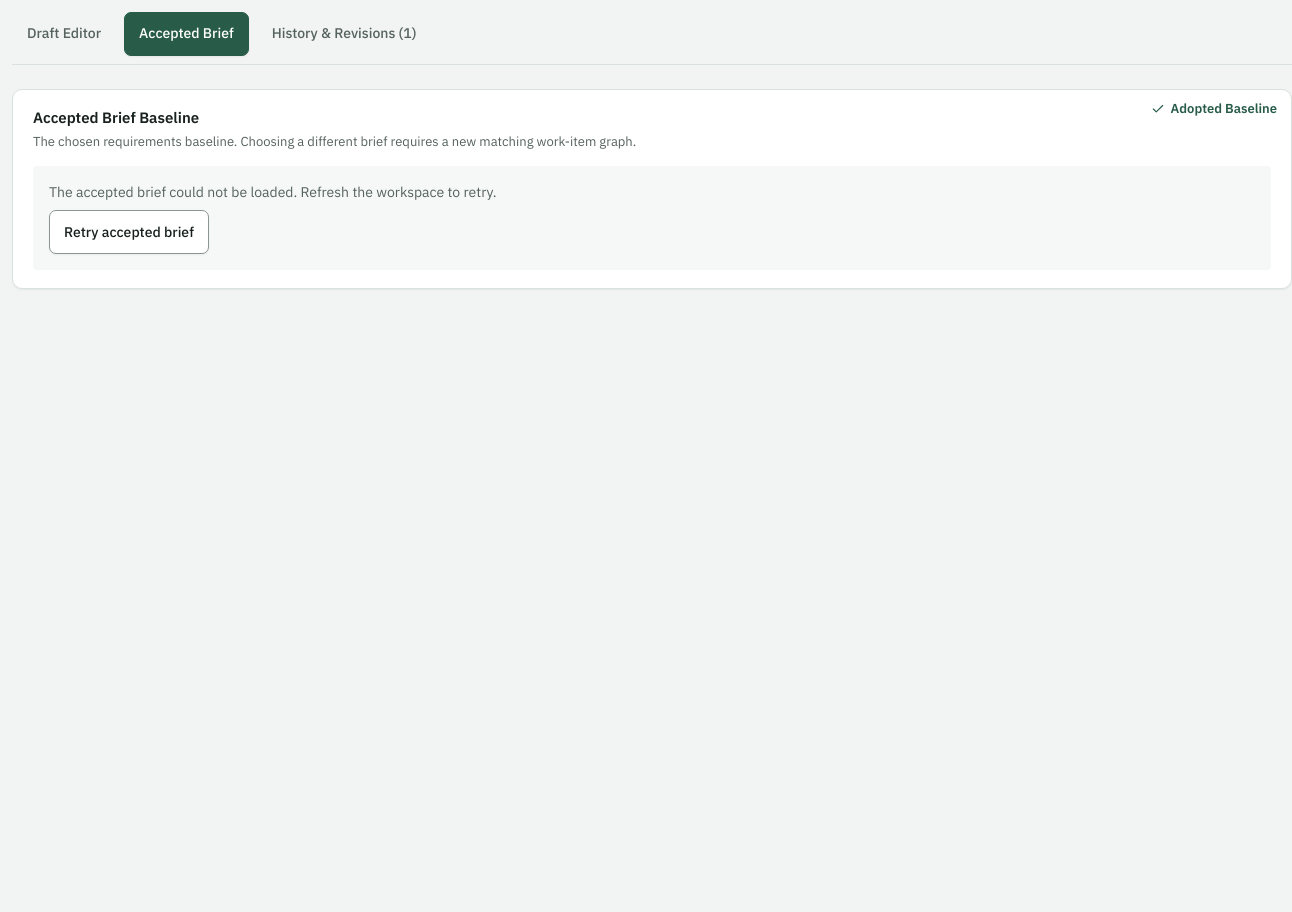
Test: BriefEditor › historical evidence exposes the saved content rather than the current draft
Click the button "History & Revisions (1)": (344,34) top-left (257, 12), bottom-right (432, 56)
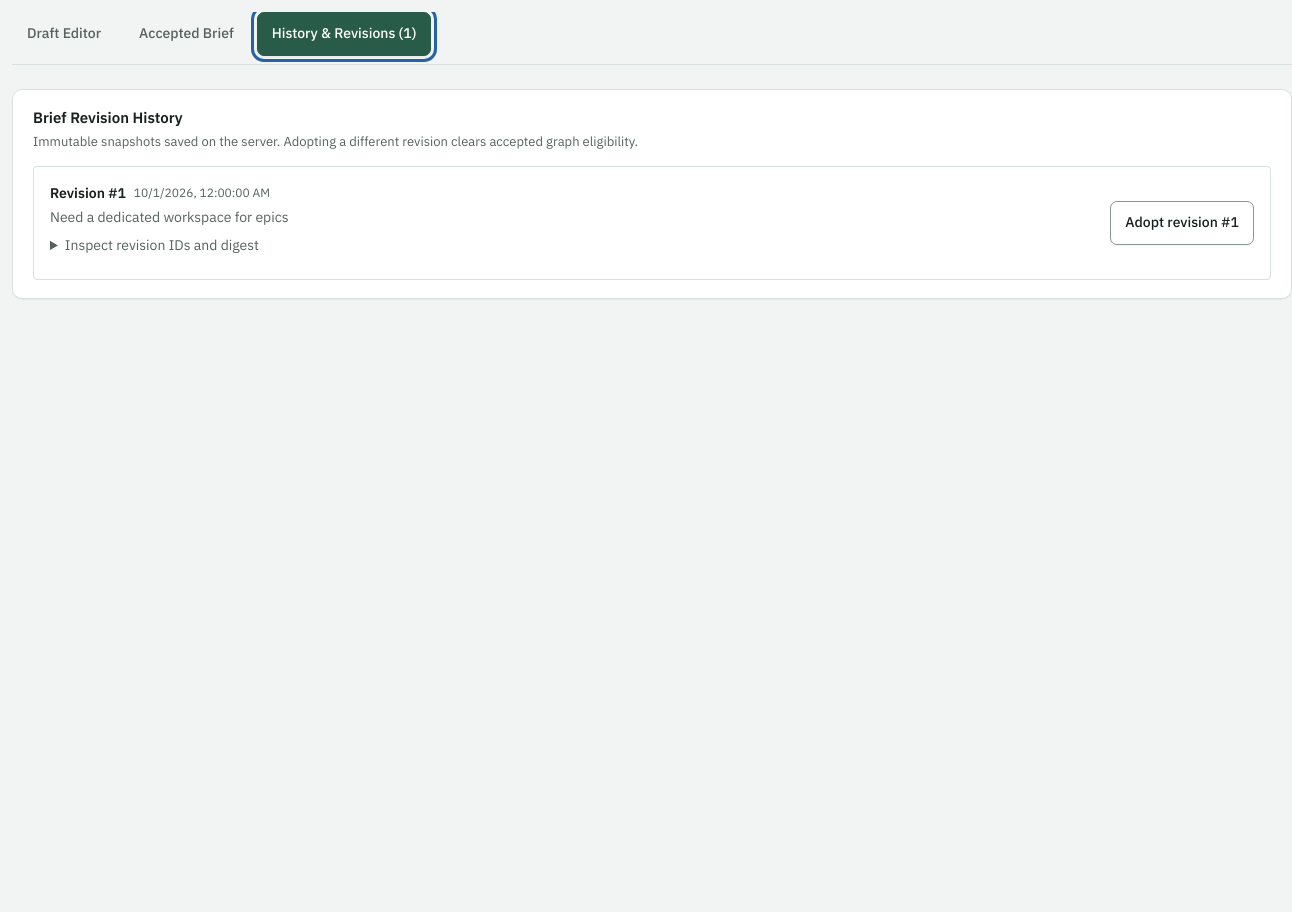
Click the heading "Inspect revision IDs and digest": (162,245) top-left (65, 236), bottom-right (259, 254)
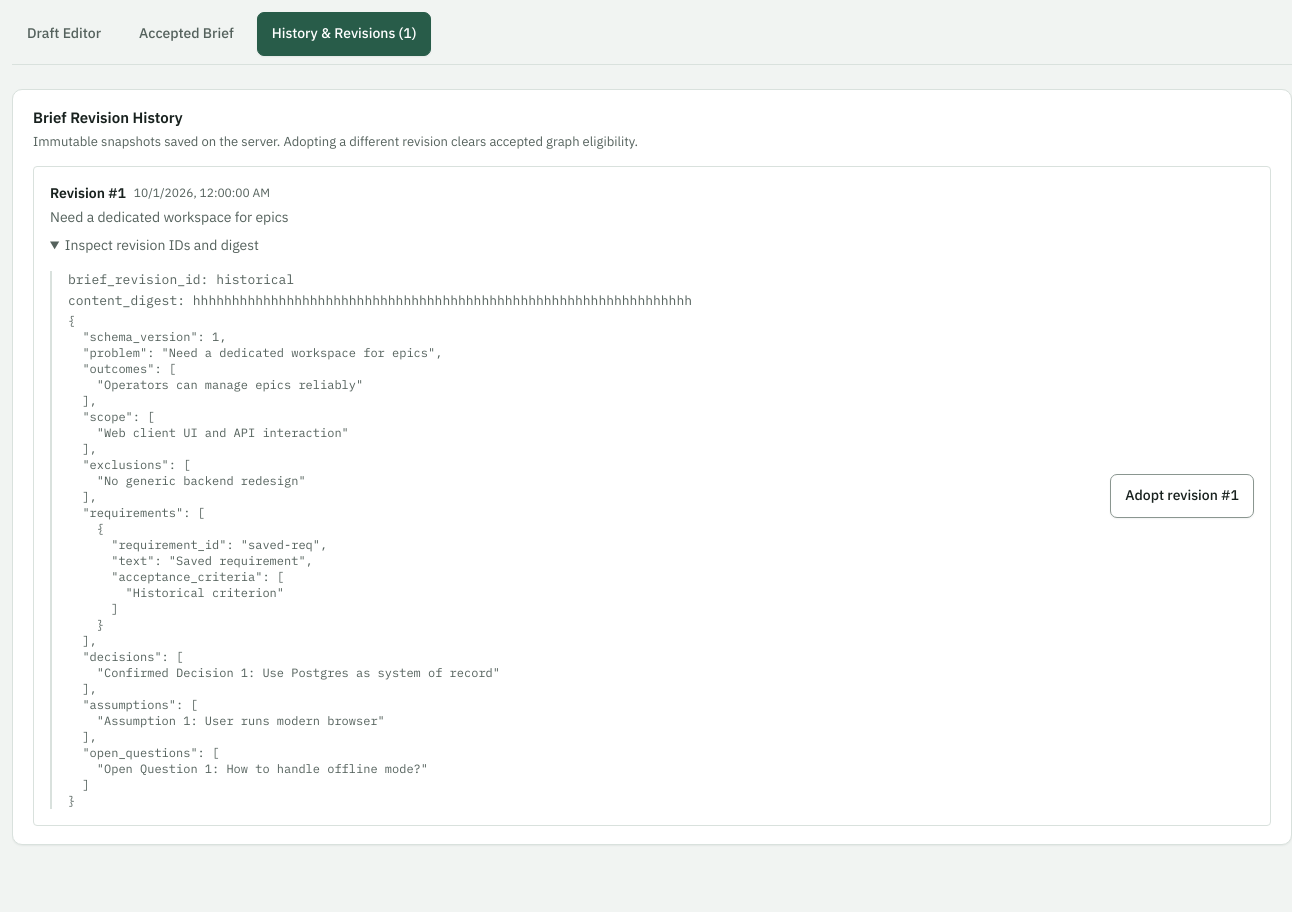
Expected: the text "Historical criterion" is shown, top-left (68, 313), bottom-right (500, 808)
